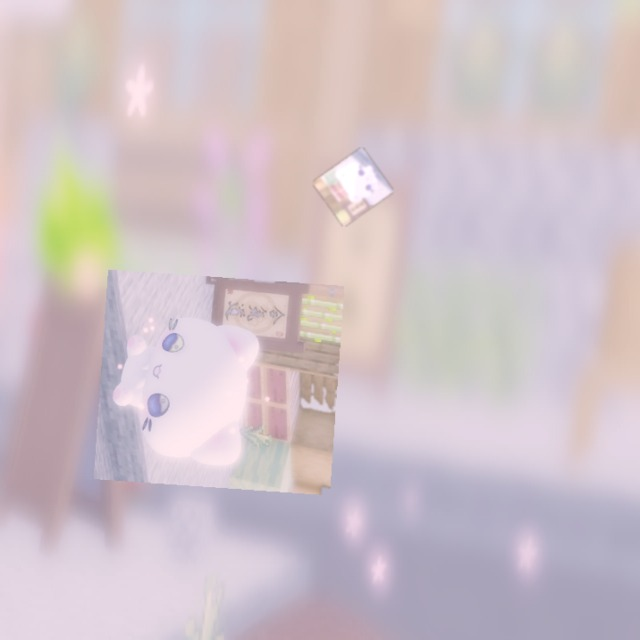urso_branco: (93, 269, 345, 496), (312, 147, 394, 227)
